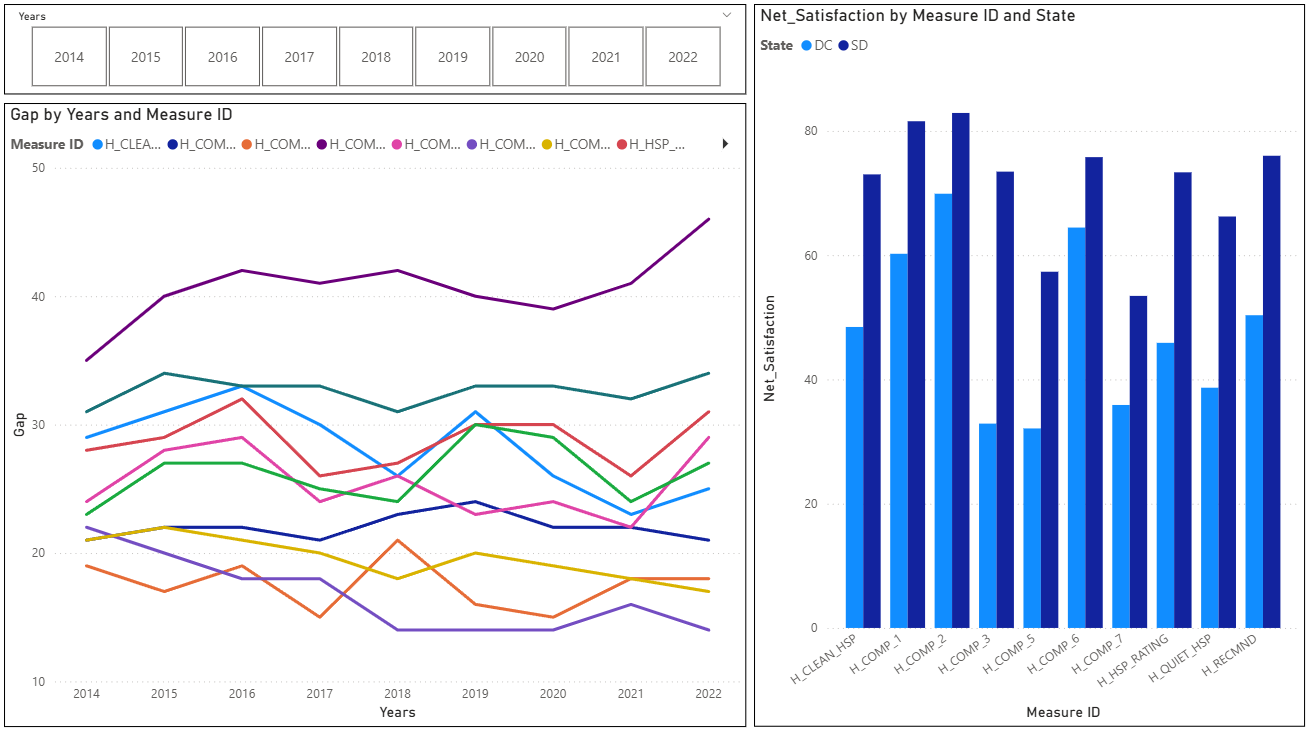

The page's visual inventory and layout, read from the dashboard file:
{"tool":"powerbi","page":{"name":"Page 3","canvas":[1280,720],"ordinal":2},"visuals":[{"type":"clusteredColumnChart","fields":{"Category":["measures_table.Measure ID"],"Series":["states.State"],"Y":["state_results.Net_Satisfaction"]},"box":[736.3,8.8,535.9,703.2],"z":0},{"type":"lineChart","fields":{"Y":["state_results.Gap"],"Category":["reports.Release Year"],"Series":["measures_table.Measure ID"]},"box":[6.8,105,721.7,606.9],"z":1000},{"type":"slicer","fields":{"Values":["reports.Release Year"]},"box":[6.8,8.8,721.7,87.5],"z":2000}]}

Visuals, with their boxes in screenshot pixels (x1, y1, x2, y2), scaled from the page's 1280x720 canvas onto the 1309x732 screenshot:
clusteredColumnChart - measures_table.Measure ID x states.State: <region>753, 9, 1301, 724</region>
lineChart - state_results.Gap x reports.Release Year: <region>7, 107, 745, 724</region>
slicer - reports.Release Year: <region>7, 9, 745, 98</region>
